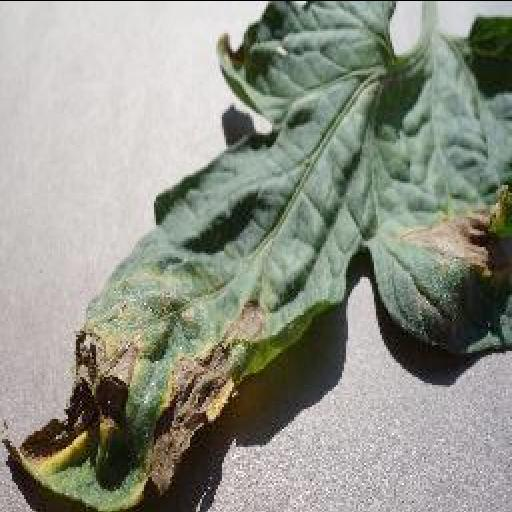disease_tomato: (4, 0, 512, 510)
